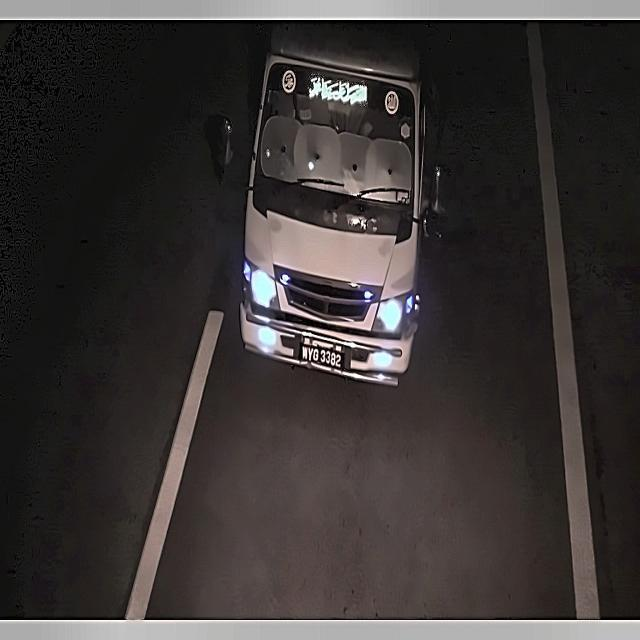car: (296, 334, 350, 378)
